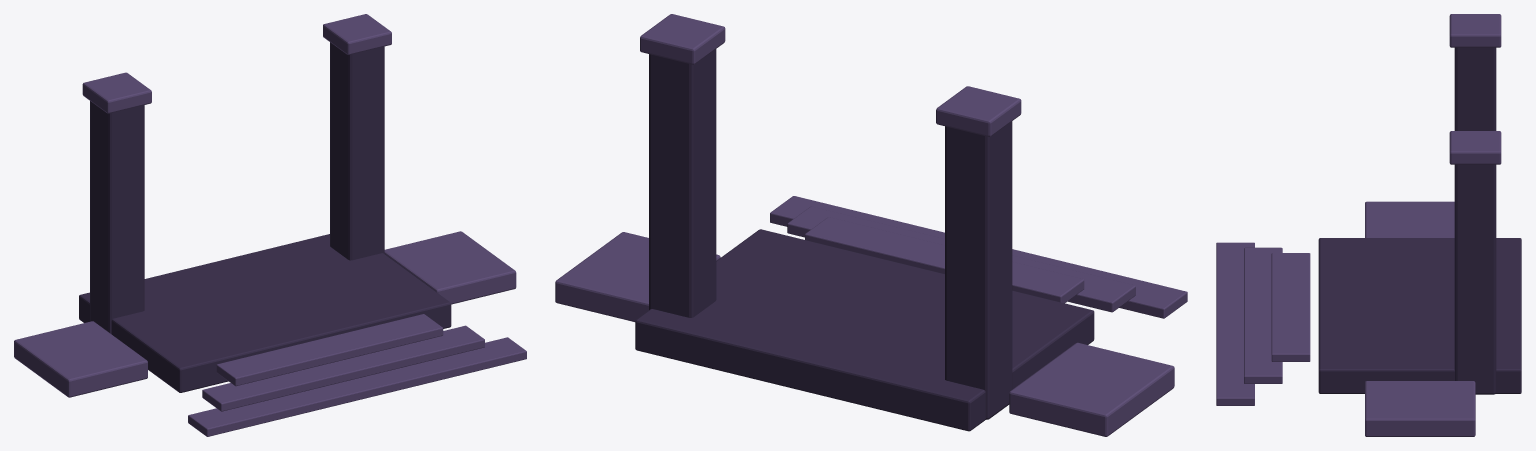
File: Stage.fbx
3 renders of one model, left to right at view 1: azimuth 30°, elevation 25°; view 2: azimuth 150°, elevation 25°; view 3: azimuth 270°, elevation 25°, orthographic. The views are drawn at different scales.
Visible parts, largest first — view 1: StageStep0.001; view 2: StageStep0.001; view 3: StageStep0.001.
Boxes of the visible parts, x1=… form: StageStep0.001: x1=14, y1=14, x2=526, y2=436; StageStep0.001: x1=555, y1=14, x2=1187, y2=436; StageStep0.001: x1=1216, y1=14, x2=1521, y2=436.
Bounding box in the file's own units: 5600 × 2940 × 3310.
